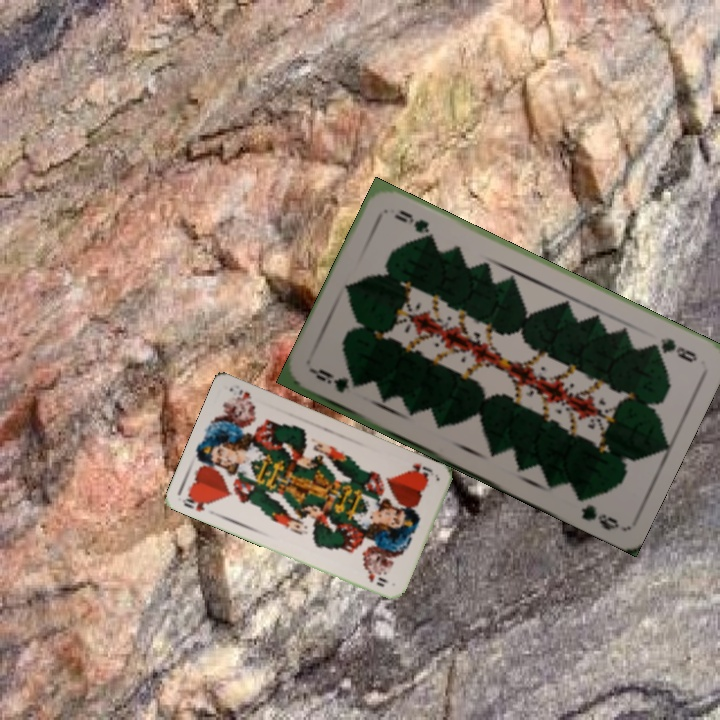G9: (645, 334, 700, 365), (308, 365, 362, 396)
HO: (178, 490, 215, 514), (404, 459, 437, 481)
